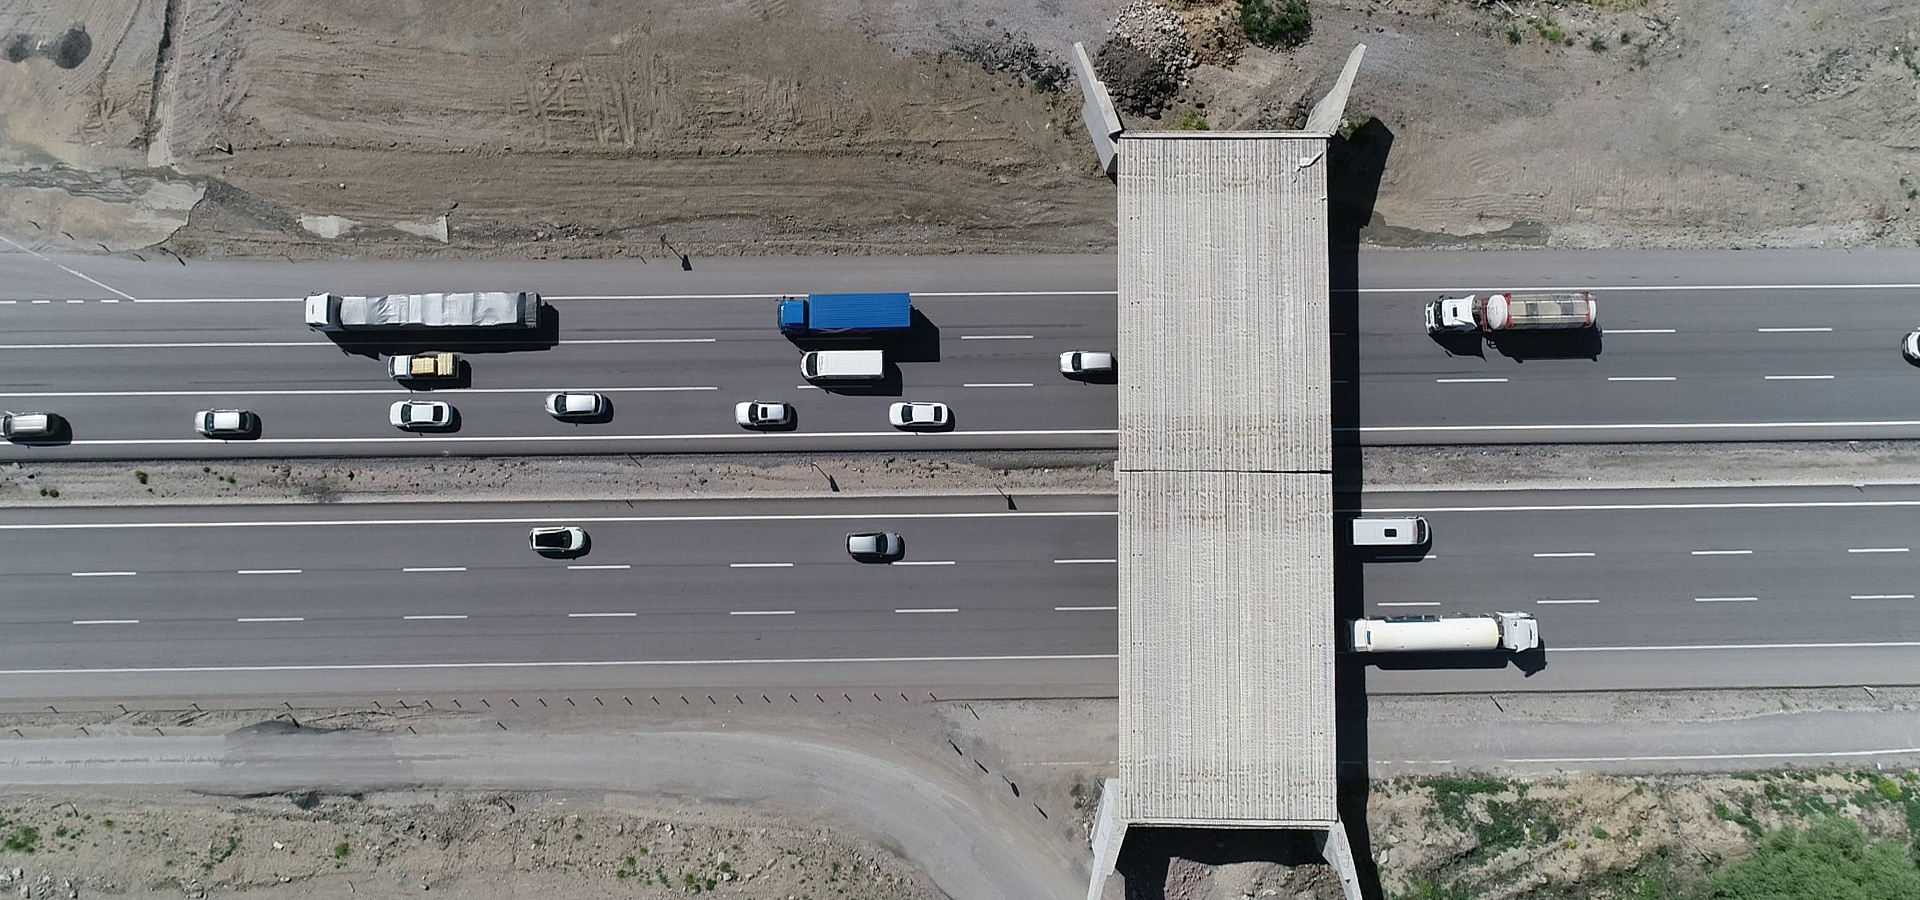araba: (189, 400, 267, 438), (846, 522, 923, 558), (383, 397, 475, 426), (525, 519, 594, 558), (542, 387, 612, 422), (885, 404, 958, 438), (1, 407, 73, 441), (1060, 345, 1125, 376)
kamyon: (301, 290, 546, 342), (1419, 287, 1611, 344), (1337, 606, 1542, 658), (775, 280, 924, 345), (793, 345, 913, 387), (1340, 509, 1439, 553), (380, 340, 476, 383)
